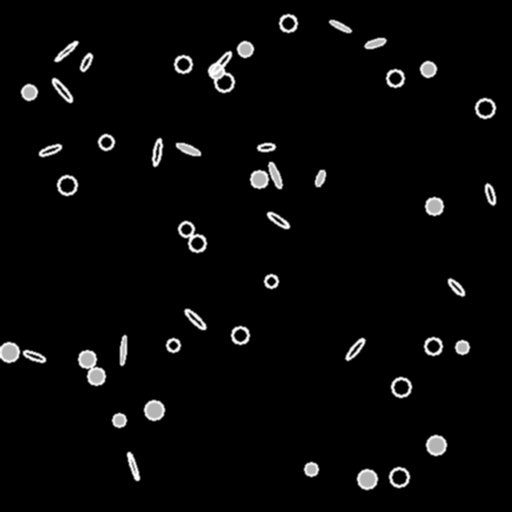pseudomonas: (183, 307, 207, 331), (210, 50, 232, 76), (51, 77, 73, 103), (344, 337, 366, 361), (54, 40, 78, 62), (266, 210, 290, 230), (267, 161, 283, 189), (175, 141, 201, 157), (126, 452, 140, 480), (447, 277, 465, 297), (151, 138, 163, 166), (22, 349, 46, 363), (38, 143, 62, 157), (329, 19, 351, 33), (484, 183, 496, 205), (364, 37, 386, 49), (79, 53, 93, 71), (119, 336, 127, 364), (314, 169, 326, 187), (258, 143, 274, 151)
synechocystis: (215, 73, 233, 91), (58, 176, 76, 194), (476, 99, 494, 117), (358, 470, 376, 488), (0, 343, 18, 361), (427, 436, 445, 454), (145, 401, 163, 419), (390, 468, 408, 486), (392, 378, 410, 396), (426, 198, 442, 214), (280, 15, 296, 31), (232, 327, 248, 343), (189, 235, 205, 251), (79, 351, 95, 367), (387, 70, 403, 86), (88, 368, 104, 384), (425, 338, 441, 354), (175, 56, 191, 72), (251, 171, 267, 187), (238, 42, 252, 56), (99, 135, 113, 149), (179, 222, 193, 236), (421, 62, 435, 76), (22, 85, 36, 99), (209, 64, 223, 78), (456, 341, 468, 353), (265, 275, 277, 287), (305, 463, 317, 475), (167, 339, 179, 351), (113, 414, 125, 426)
